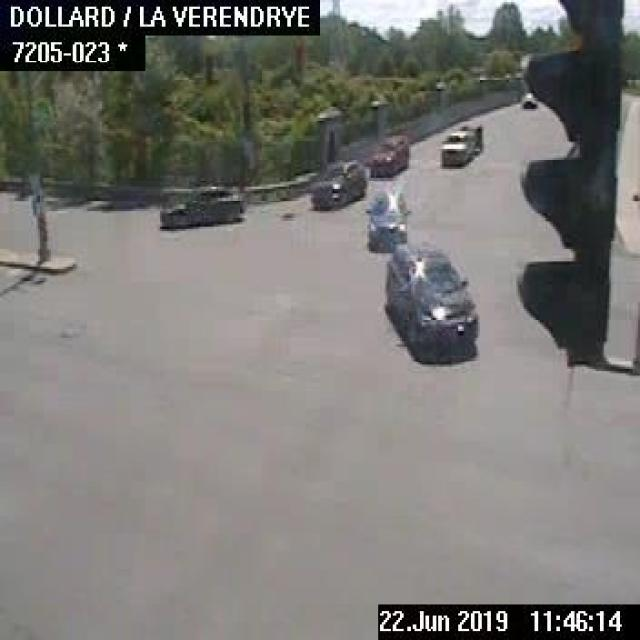vehicle: (381, 244, 480, 358), (157, 180, 246, 229), (308, 159, 368, 211), (362, 183, 407, 252), (436, 123, 484, 167), (363, 128, 408, 173), (518, 96, 536, 111)
